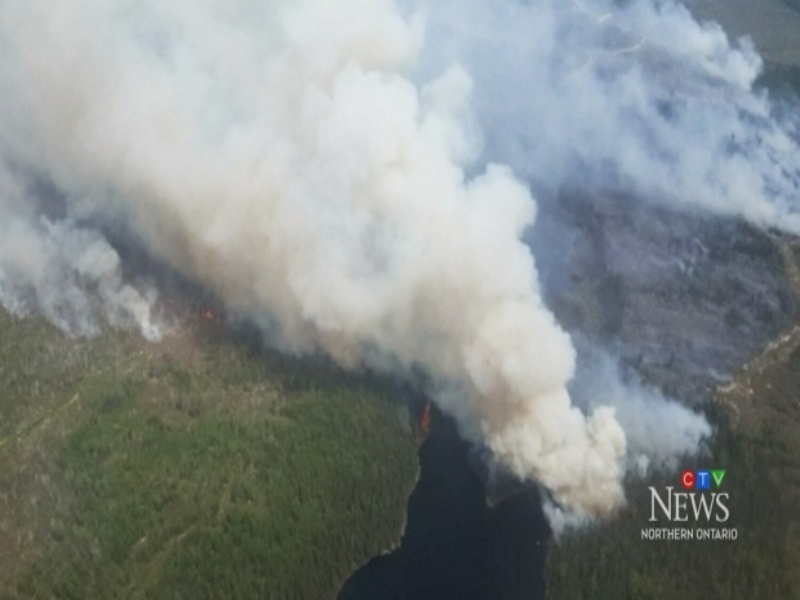smoke: (1, 5, 797, 394)
